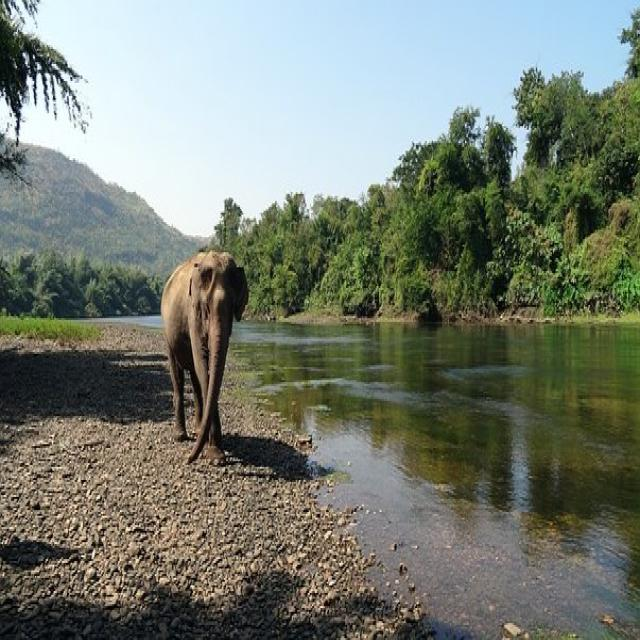Elephant: (144, 222, 261, 473)
